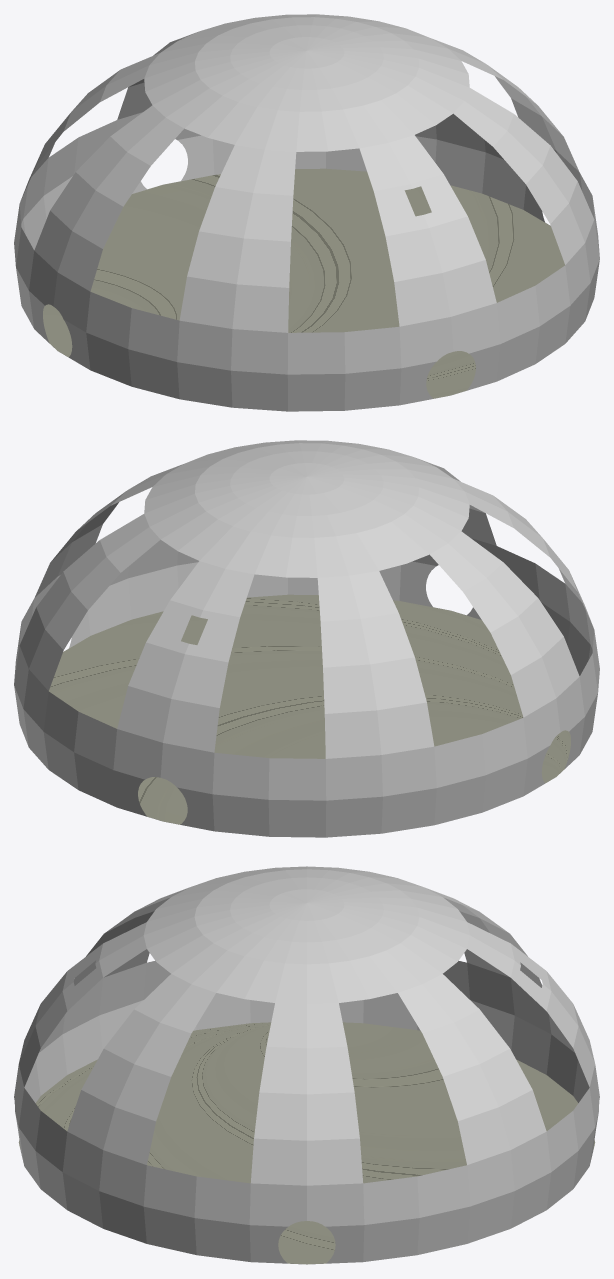
Rendered from Copertura_cupola.fbx.
3 renders of one model, top to bottom at view 1: azimuth 30°, elevation 25°; view 2: azimuth 150°, elevation 25°; view 3: azimuth 270°, elevation 25°, orthographic.
Visible parts, largest first — view 1: Arco_001; view 2: Arco_001; view 3: Arco_001.
Part boxes in pixels (x1,y1,x2,y2): Arco_001: [14, 14, 599, 411]; Arco_001: [14, 440, 599, 837]; Arco_001: [14, 866, 599, 1264].
Bounding box in the file's own units: 89.94 × 40.58 × 89.94.
